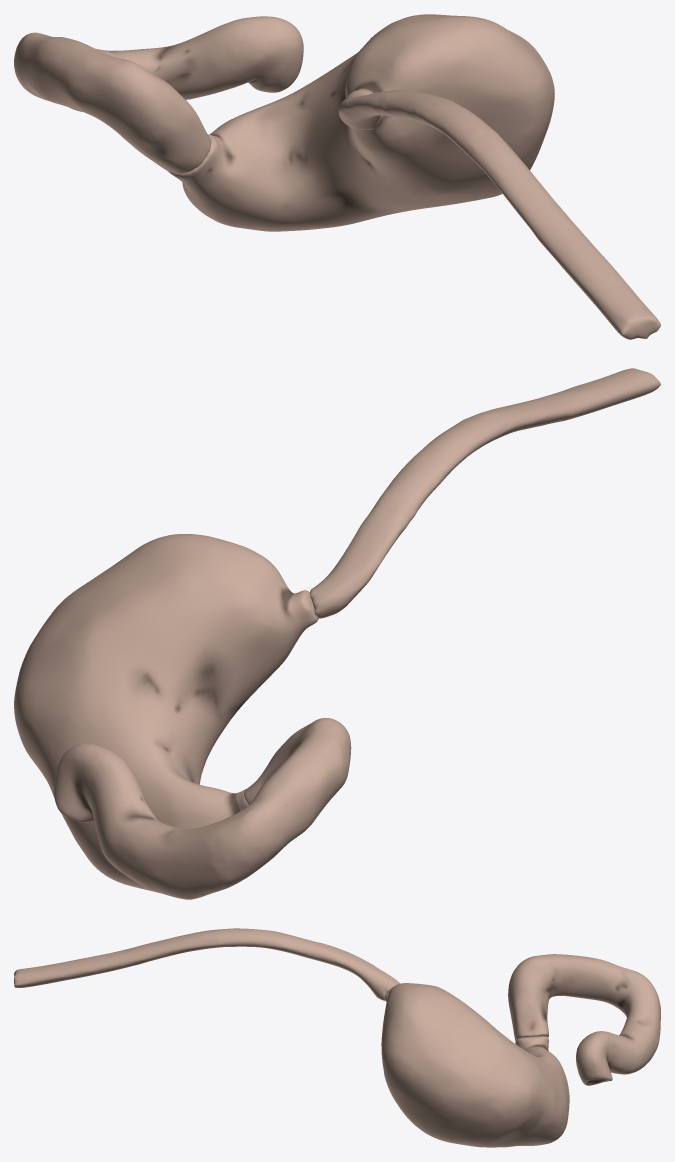
The model's file is stomach.00b01ebed1.glb.
3 views of the same model, one above another, from view 1: azimuth 30°, elevation 25°; view 2: azimuth 150°, elevation 25°; view 3: azimuth 270°, elevation 25° (orthographic). The views are drawn at different scales.
Visible parts, largest first — view 1: FMA7148, FMA7206, FMA7131; view 2: FMA7148, FMA7206, FMA7131; view 3: FMA7148, FMA7206, FMA7131.
Boxes of the visible parts, x1,y1,x2,y2 form: FMA7148: (168,14,554,231); FMA7206: (14,16,303,173); FMA7131: (338,90,660,339); FMA7148: (14,534,318,892); FMA7206: (54,718,351,899); FMA7131: (310,368,660,618); FMA7148: (381,983,569,1147); FMA7206: (508,954,660,1085); FMA7131: (14,928,399,1000).
Bounding box in the file's own units: 178 × 132 × 412.
